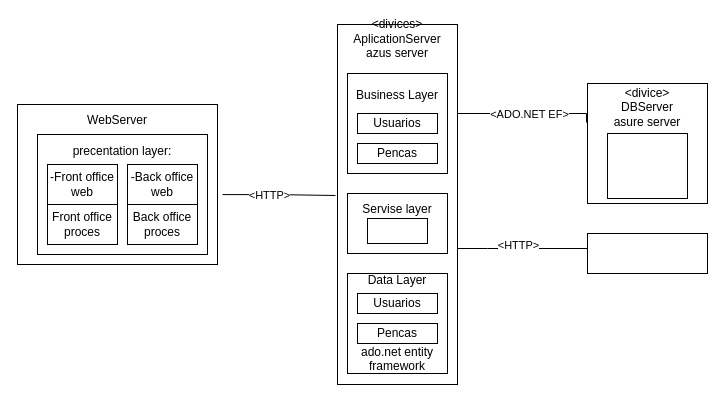
This 725x408 diagram has some shape labels left out. The centre of each missing label's shape, as x and y in pixels:
"<drivice> :ExtraServices" goes at pixel 647 253.
"Penca <datavase> vebndedor microsoft" goes at pixel 647 165.
"penca Api" goes at pixel 397 231.
